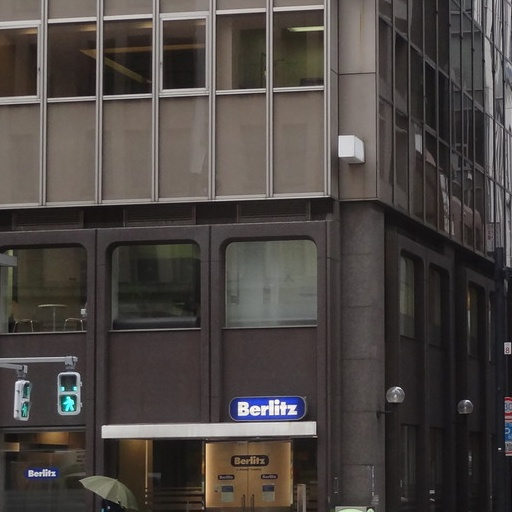Pedestrian_Signal_Blue: (49, 363, 86, 416)
